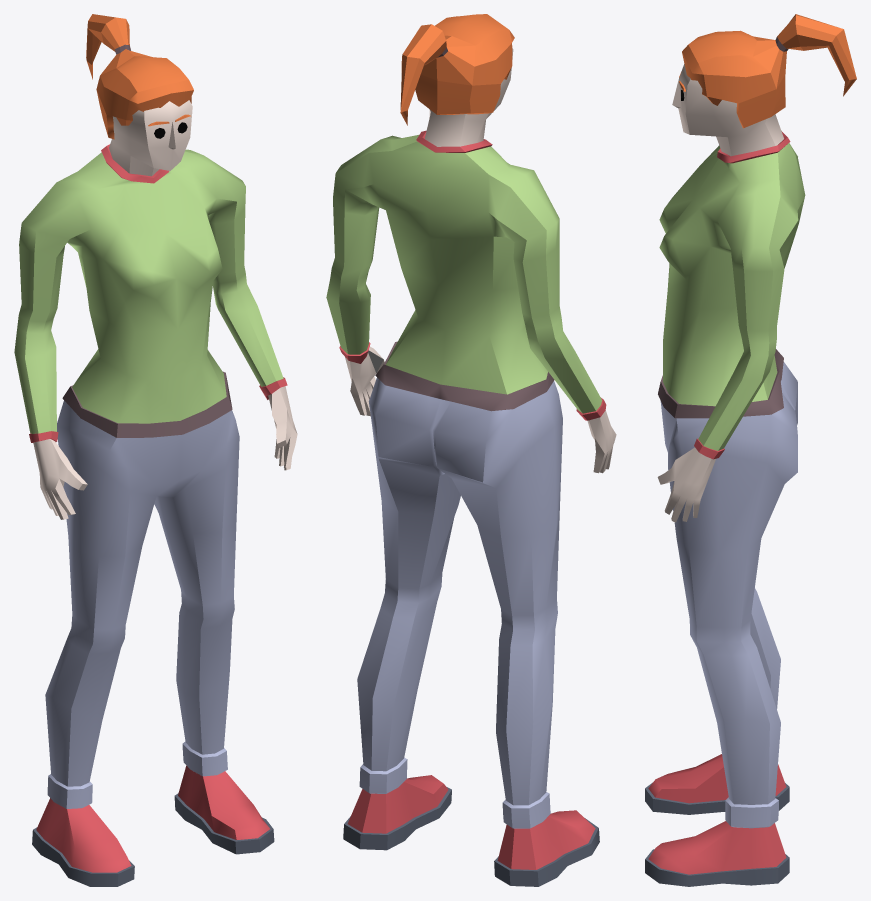
The model's file is character1.glb.
3 views of the same model, side by side, from view 1: azimuth 30°, elevation 25°; view 2: azimuth 150°, elevation 25°; view 3: azimuth 270°, elevation 25° (orthographic). The views are drawn at different scales.
Parts seen in each view (by area): view 1: lowPolyCharacterFemaleFace7; view 2: lowPolyCharacterFemaleFace7; view 3: lowPolyCharacterFemaleFace7.
Boxes of the visible parts, x1,y1,x2,y2 form: lowPolyCharacterFemaleFace7: (14, 14, 297, 886); lowPolyCharacterFemaleFace7: (326, 14, 616, 886); lowPolyCharacterFemaleFace7: (645, 14, 856, 886).
Size of the model in its own units: 0.6212 by 1.9 by 0.4434.
